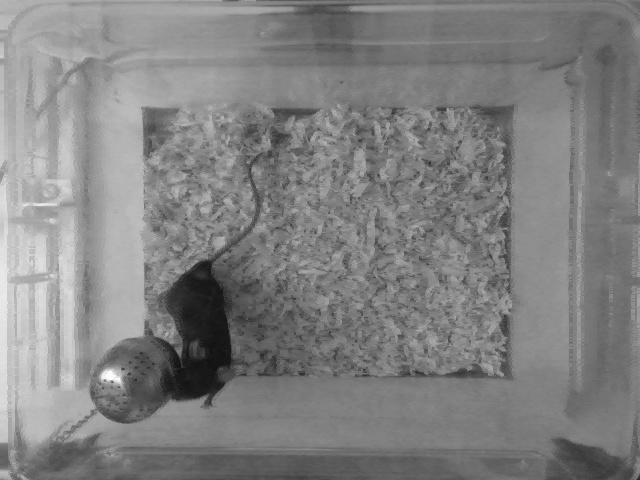mice: (160, 151, 265, 403)
